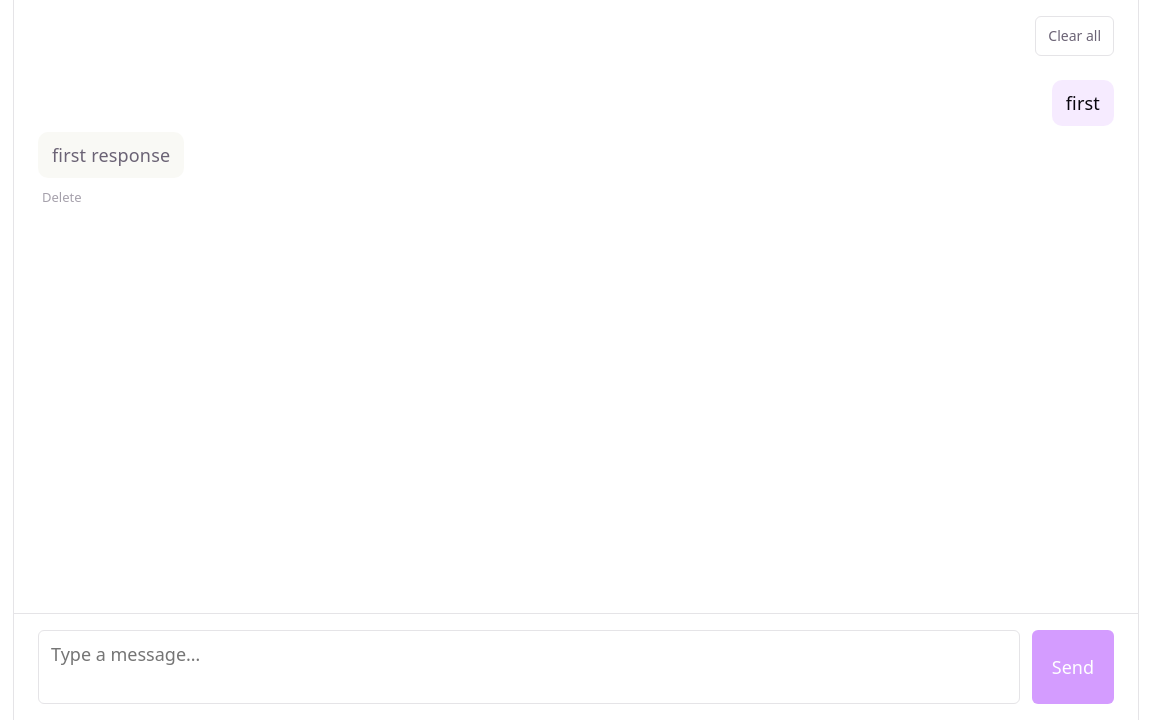
Test: clearing all history › does nothing on cancel, clears everything on confirm
Check: the text "first response" is shown, box [52, 142, 170, 168]
Click the button "Clear all" at {"x": 1075, "y": 36}, box [1035, 16, 1114, 56]
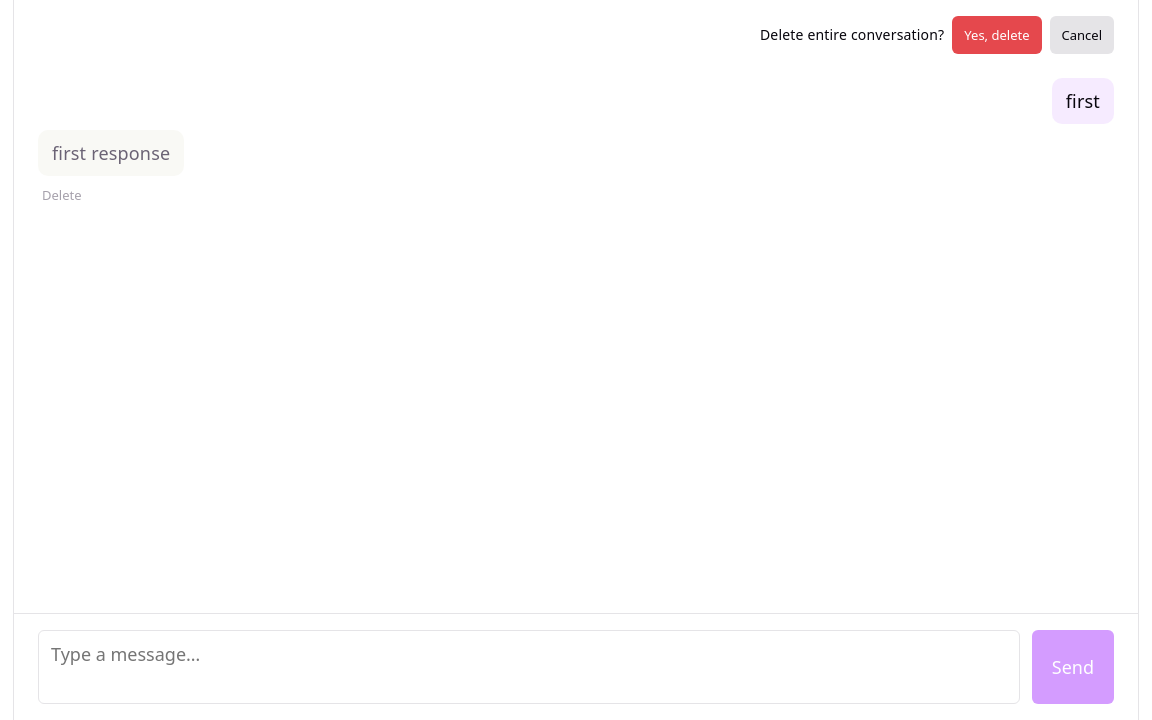
Click the button "Cancel" at {"x": 1082, "y": 35}, box [1050, 16, 1114, 54]
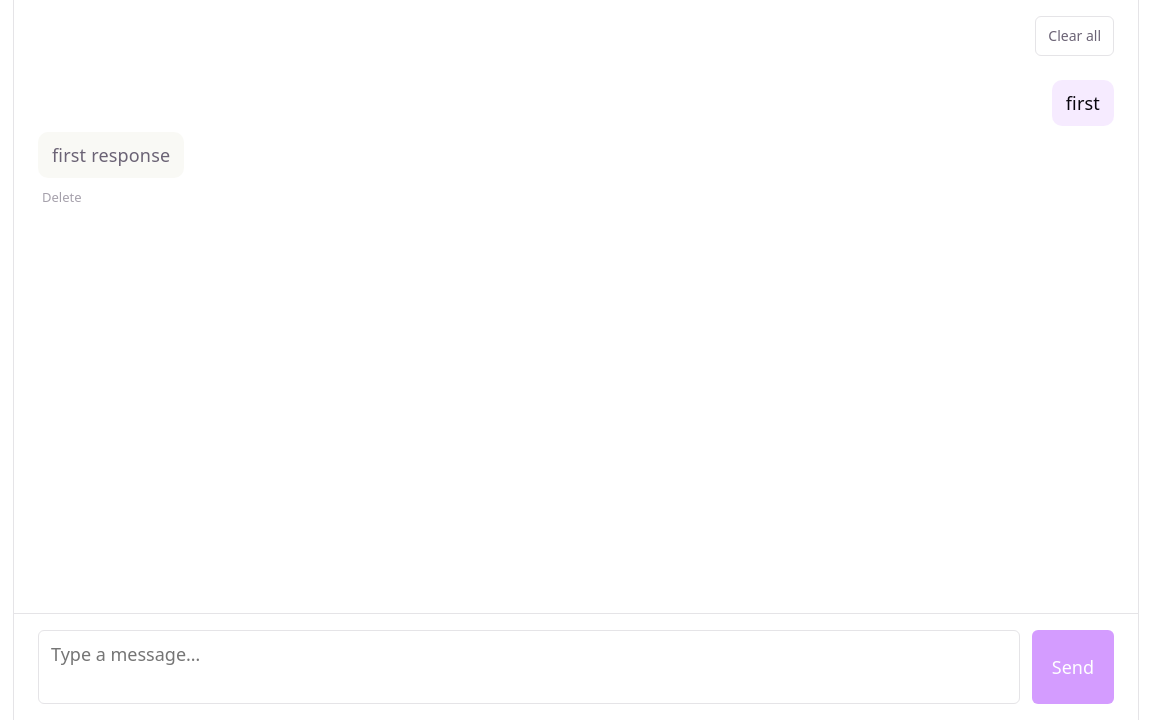
Check: the text "first response" is shown, box [52, 142, 170, 168]
Check: the text "Delete entire conversation" is gone
Click the button "Clear all" at {"x": 1075, "y": 36}, box [1035, 16, 1114, 56]
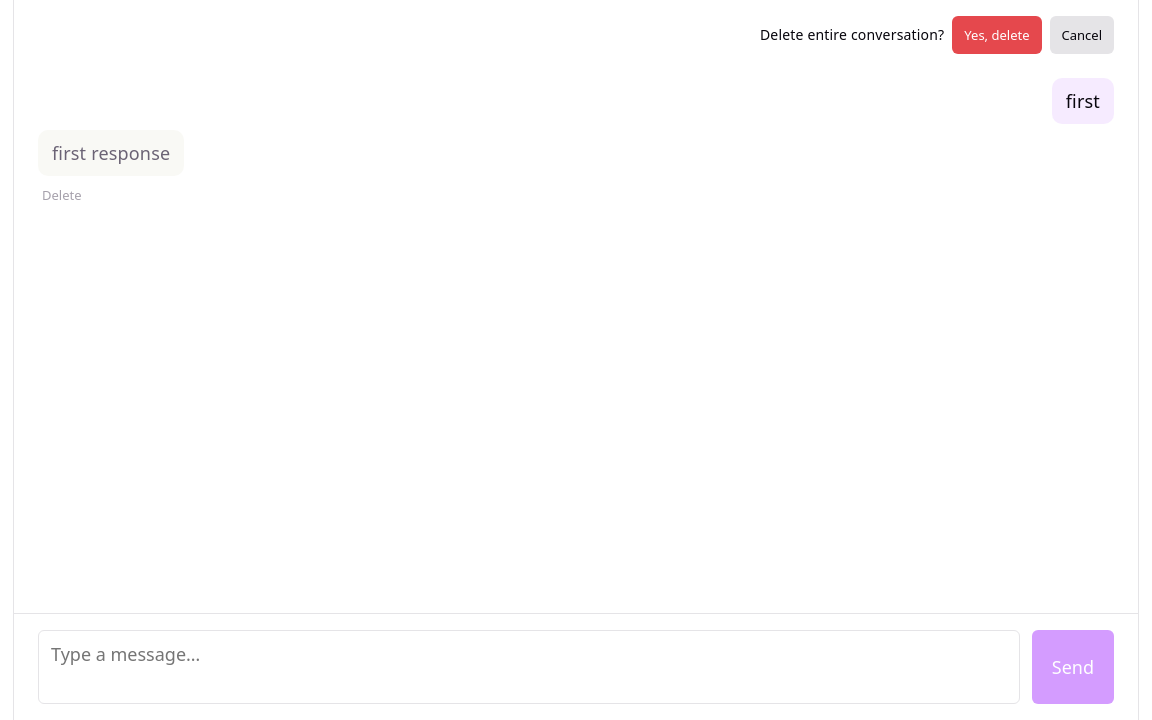
Click the button "Yes, delete" at {"x": 997, "y": 35}, box [952, 16, 1042, 54]
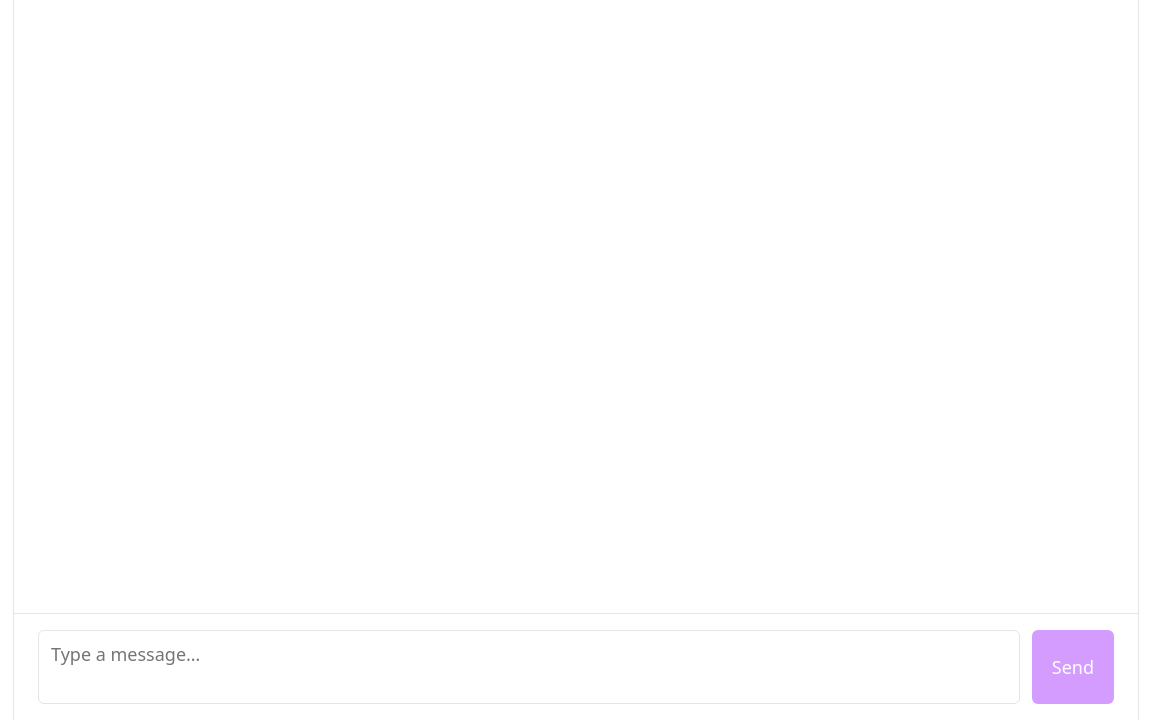
Check: the text "first response" is gone
